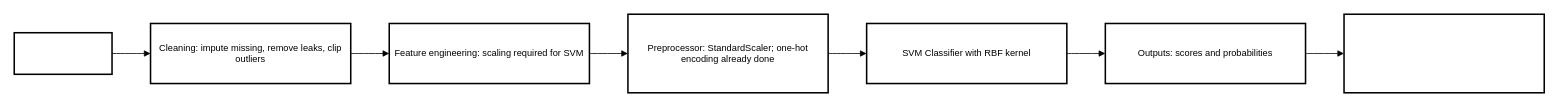
Image size: 1558x106. Some labels were removed from this diagram. Here are the shapes that lost their labels. From the top down, the box of each, then its label:
(13, 32, 112, 75): Raw data
(1343, 13, 1545, 93): Metrics: ROC AUC, Precision, Recall, F1, Confusion Matrix
